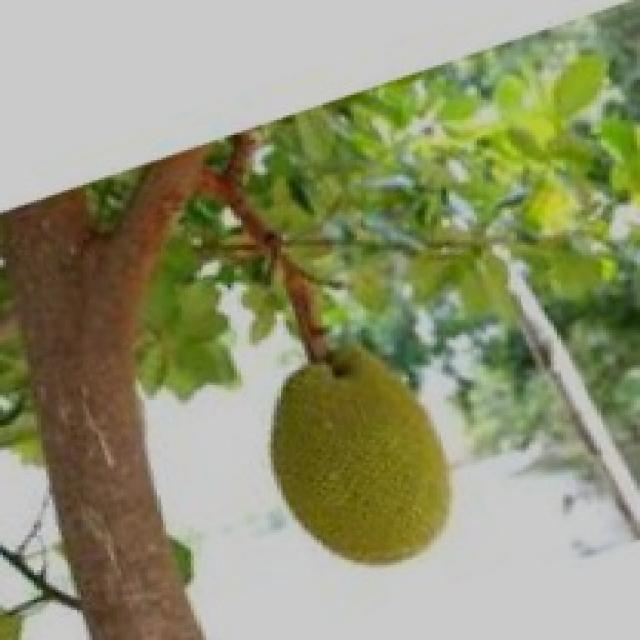Fruit: (228, 318, 492, 602)
